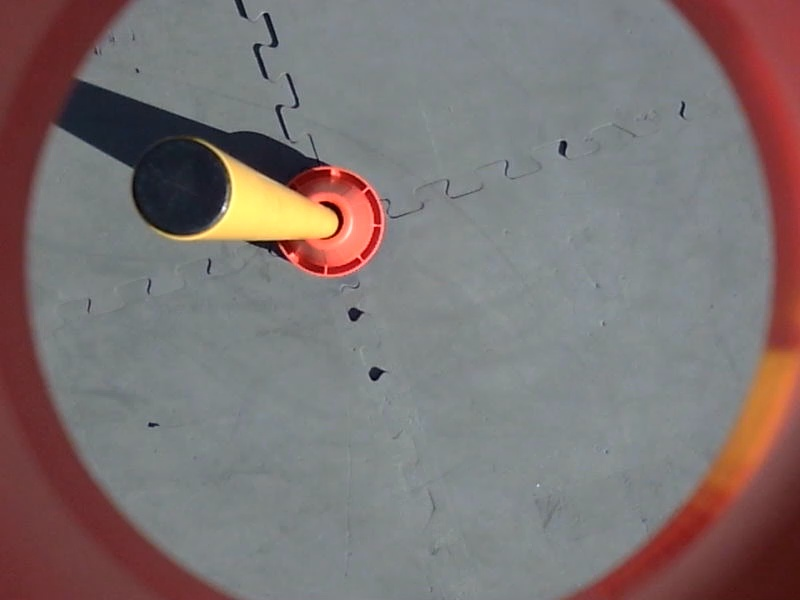tip: (129, 131, 237, 245)
